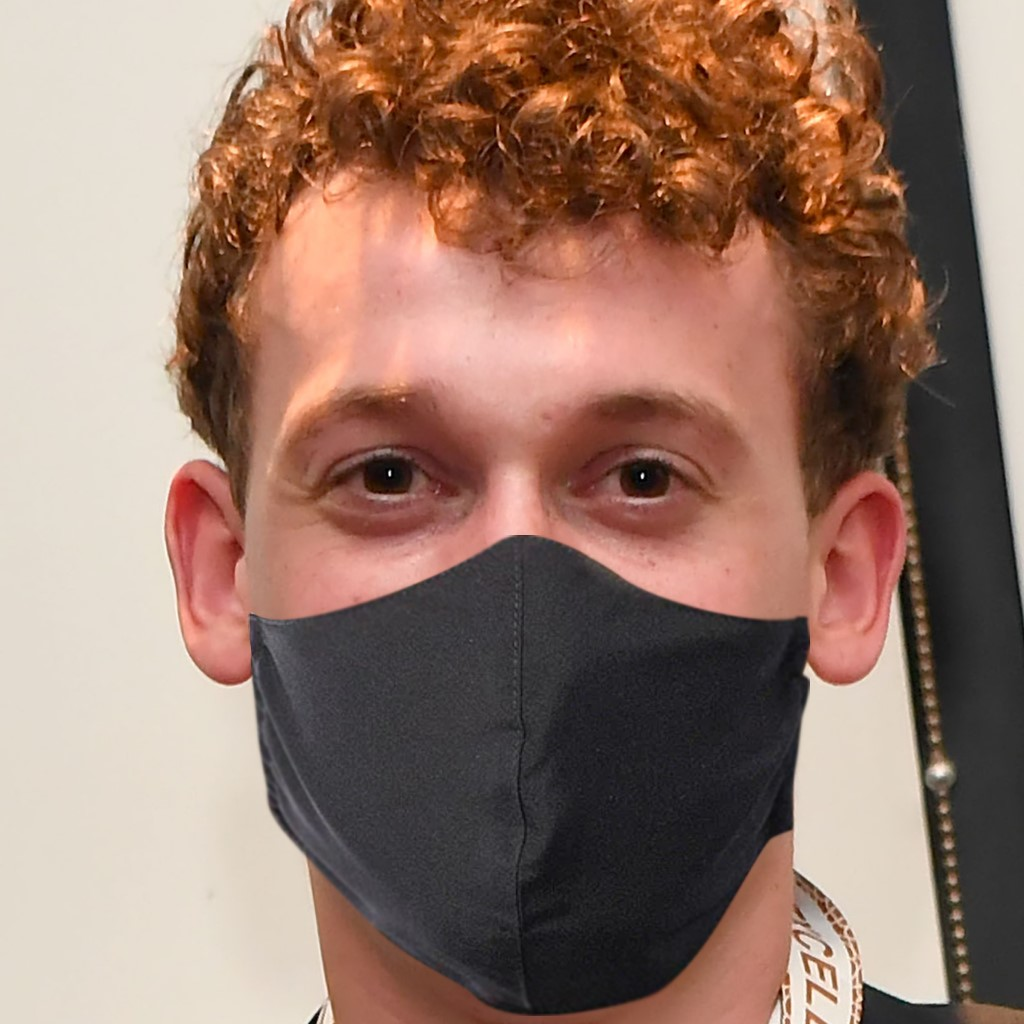con_mascara: (228, 189, 812, 954)
